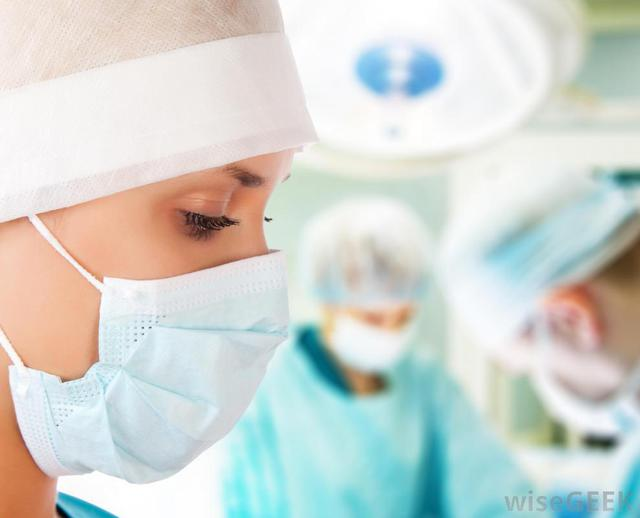mask: (97, 281, 295, 482)
